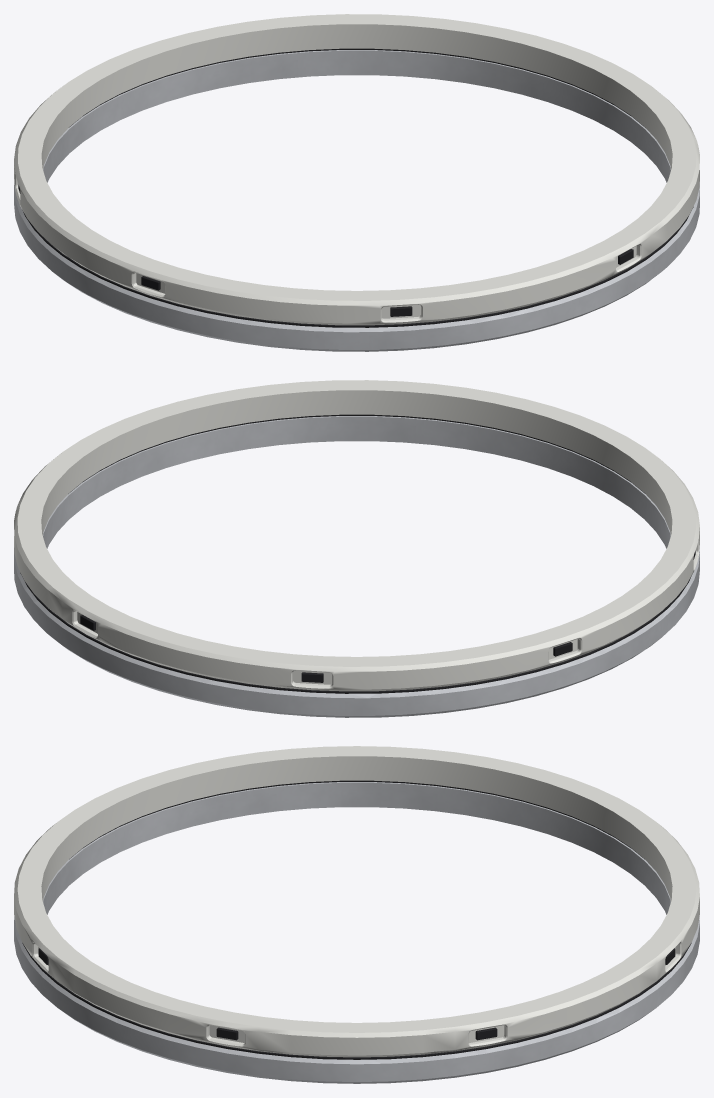
The model's file is ax_struct_06_stack_decoupler_l.glb.
3 renders of one model, top to bottom at view 1: azimuth 30°, elevation 25°; view 2: azimuth 150°, elevation 25°; view 3: azimuth 270°, elevation 25°, orthographic.
Visible parts, largest first — view 1: decoupler_upper_ring, decoupler_lower_ring, separation_plane, pyro_latches; view 2: decoupler_upper_ring, decoupler_lower_ring, separation_plane, pyro_latches; view 3: decoupler_upper_ring, decoupler_lower_ring, separation_plane, pyro_latches.
Boxes of the visible parts, box(x1,y1,x2,y2) form: decoupler_upper_ring: box(14, 14, 699, 325); decoupler_lower_ring: box(14, 50, 699, 351); separation_plane: box(22, 48, 693, 327); pyro_latches: box(18, 185, 633, 316); decoupler_upper_ring: box(14, 380, 699, 691); decoupler_lower_ring: box(14, 416, 699, 717); separation_plane: box(20, 414, 691, 693); pyro_latches: box(80, 551, 695, 682); decoupler_upper_ring: box(14, 746, 699, 1057); decoupler_lower_ring: box(14, 782, 699, 1083); separation_plane: box(22, 780, 691, 1059); pyro_latches: box(38, 948, 675, 1040).
Bounding box in the file's own units: 3.75 × 0.307 × 3.75.
3 materials, 1 textured.
